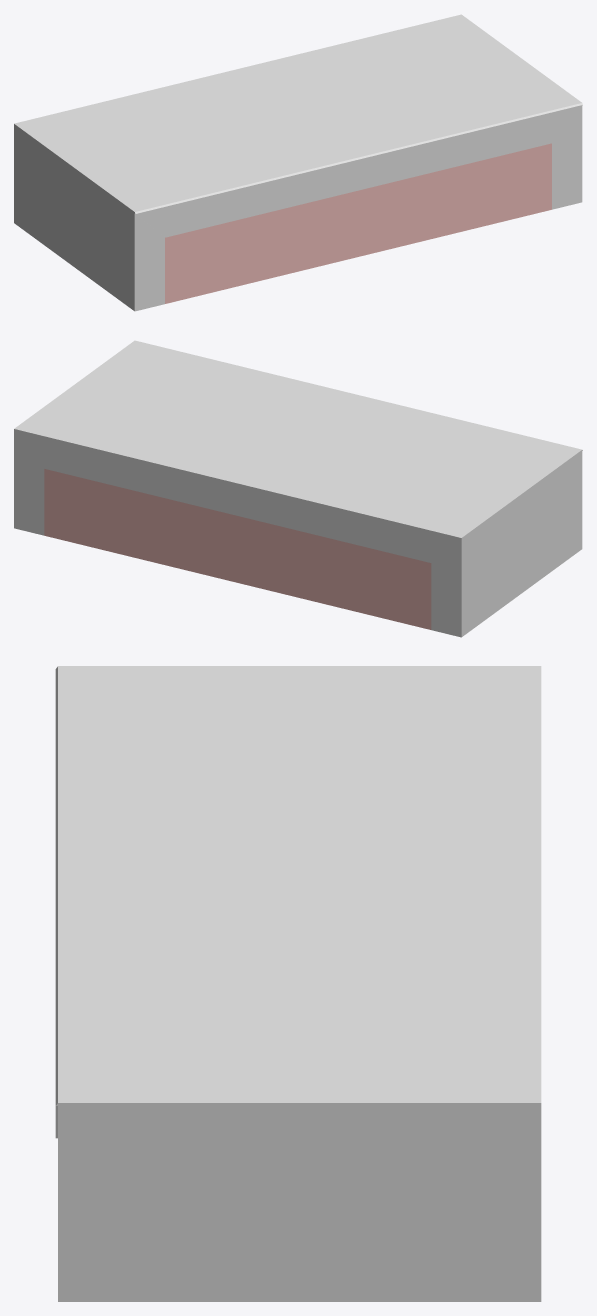
Rendered from Chocolate_Box.fbx.
3 renders of one model, top to bottom at view 1: azimuth 30°, elevation 25°; view 2: azimuth 150°, elevation 25°; view 3: azimuth 270°, elevation 25°, orthographic. The views are drawn at different scales.
Parts seen in each view (by area): view 1: Chocolate_Box; view 2: Chocolate_Box; view 3: Chocolate_Box.
Part boxes in pixels (x1=…): Chocolate_Box: x1=14, y1=14, x2=582, y2=311; Chocolate_Box: x1=14, y1=340, x2=582, y2=637; Chocolate_Box: x1=55, y1=666, x2=541, y2=1301.
Bounding box in the file's own units: 88.73 × 18.84 × 41.7.
